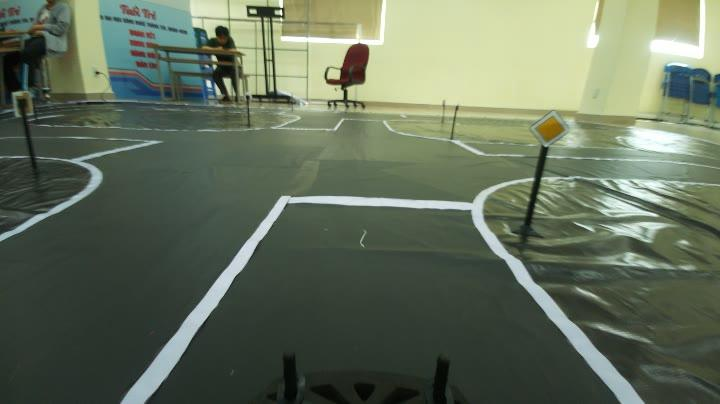priority: (526, 105, 572, 152)
